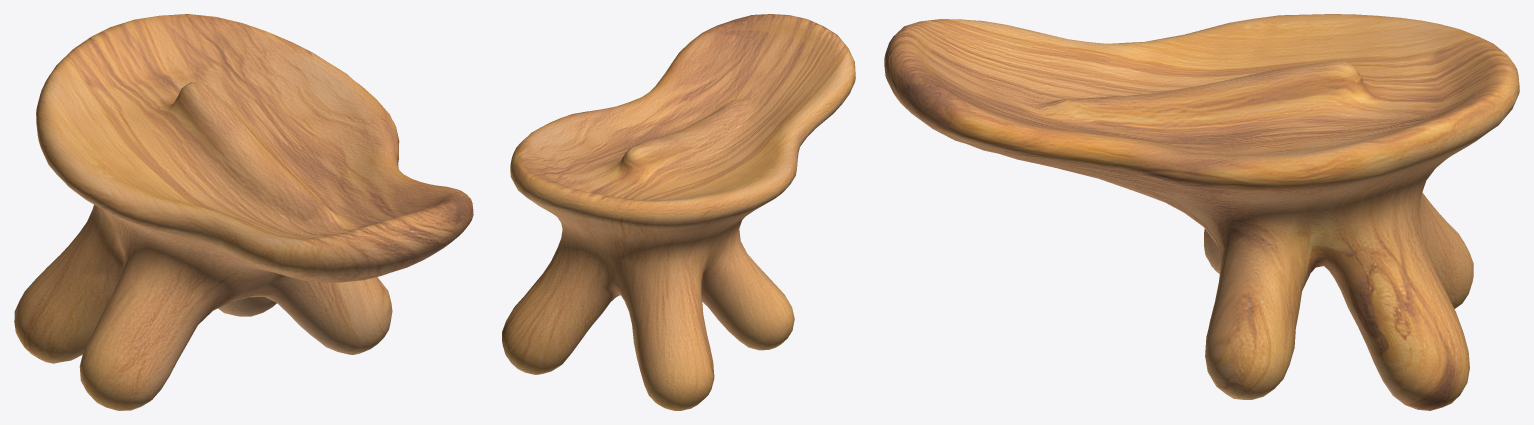
Rendered from spiseredskap_07.glb.
3 views of the same model, side by side, from view 1: azimuth 30°, elevation 25°; view 2: azimuth 150°, elevation 25°; view 3: azimuth 270°, elevation 25° (orthographic). The views are drawn at different scales.
Parts seen in each view (by area): view 1: tripo_node_e5b6e430-0b51-4c33-9e73-1c51b7f928f1; view 2: tripo_node_e5b6e430-0b51-4c33-9e73-1c51b7f928f1; view 3: tripo_node_e5b6e430-0b51-4c33-9e73-1c51b7f928f1.
Boxes of the visible parts, bbox=[...] form: tripo_node_e5b6e430-0b51-4c33-9e73-1c51b7f928f1: bbox=[14, 14, 473, 410]; tripo_node_e5b6e430-0b51-4c33-9e73-1c51b7f928f1: bbox=[502, 14, 855, 410]; tripo_node_e5b6e430-0b51-4c33-9e73-1c51b7f928f1: bbox=[884, 14, 1519, 410].
Size of the model in its own units: 0.5918 by 0.5488 by 0.998.
1 material, 1 textured.
